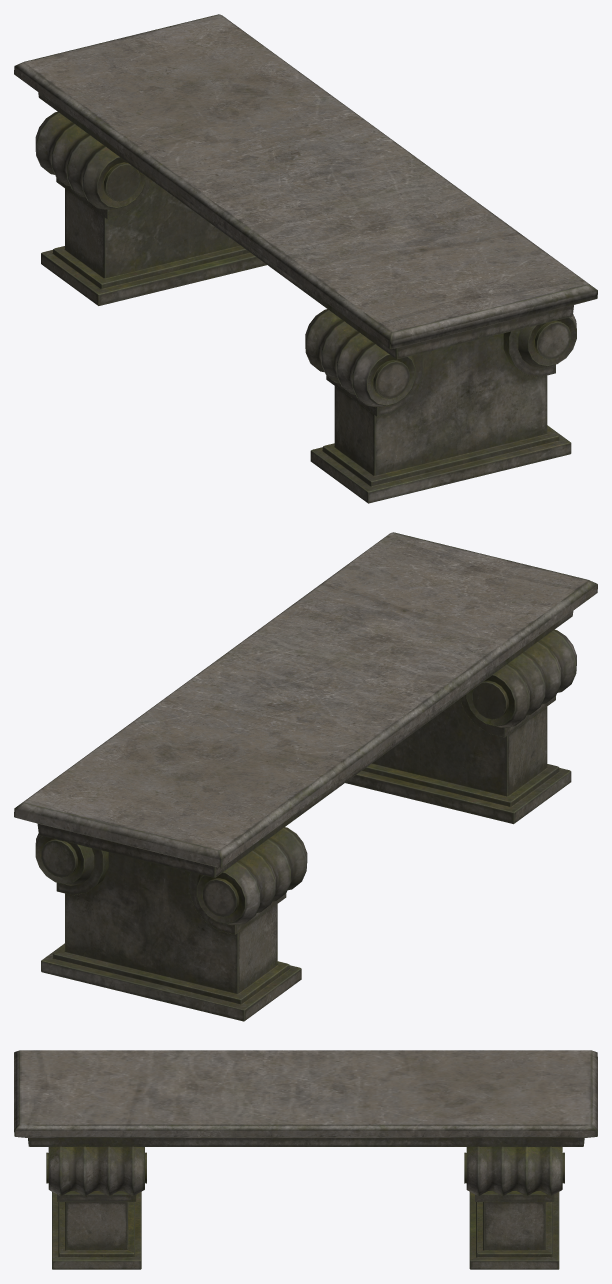
Rendered from SM_BenchA.fbx.
The picture shows the model from 3 angles, top to bottom: view 1: azimuth 30°, elevation 25°; view 2: azimuth 150°, elevation 25°; view 3: azimuth 270°, elevation 25°; orthographic projection. The views are drawn at different scales.
Visible parts, largest first — view 1: SM_BenchA_LOD0; view 2: SM_BenchA_LOD0; view 3: SM_BenchA_LOD0.
Part boxes in pixels (x1=…): SM_BenchA_LOD0: x1=14, y1=14, x2=597, y2=503; SM_BenchA_LOD0: x1=14, y1=532, x2=597, y2=1021; SM_BenchA_LOD0: x1=14, y1=1050, x2=597, y2=1269.
Size of the model in its own units: 55.44 by 163 by 44.24.
Materials: 1 (1 with a texture image).
